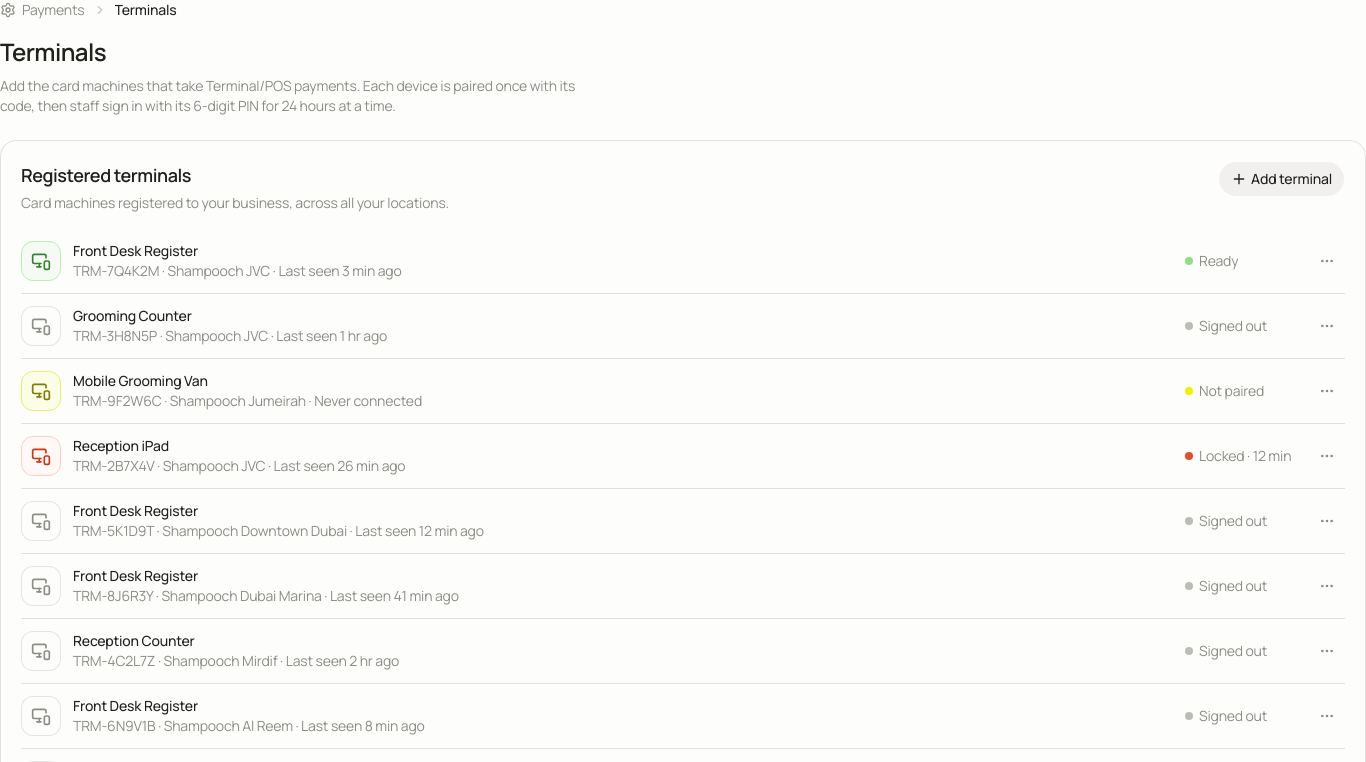
Scenario: card machines with no location › leave placed machines a Change location menu item, opening on where they are
The image size is (1366, 762).
Click the button named "Manage " next to "Ready" at (1327, 261), box top-left (1309, 243), bottom-right (1345, 279)
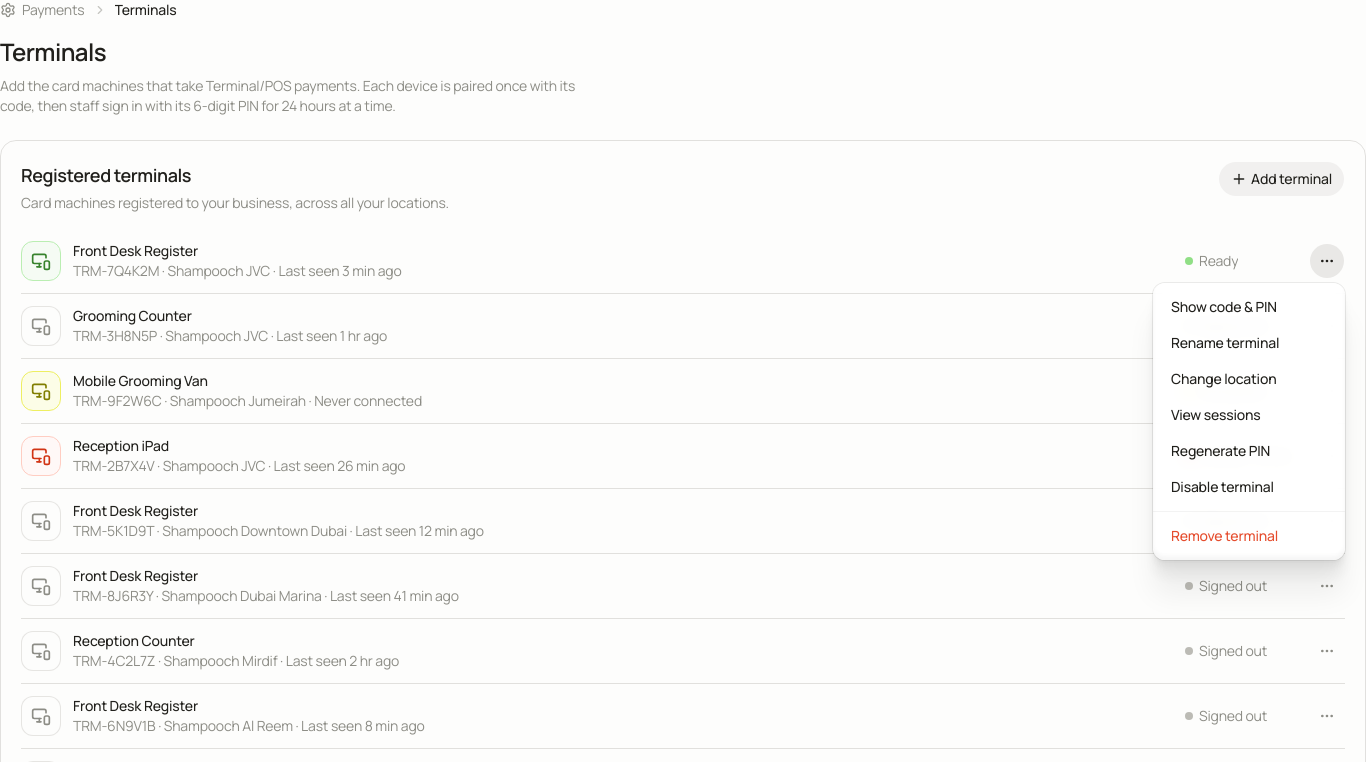
Click the menu item "Change location" at (1224, 378), box top-left (1171, 369), bottom-right (1276, 388)
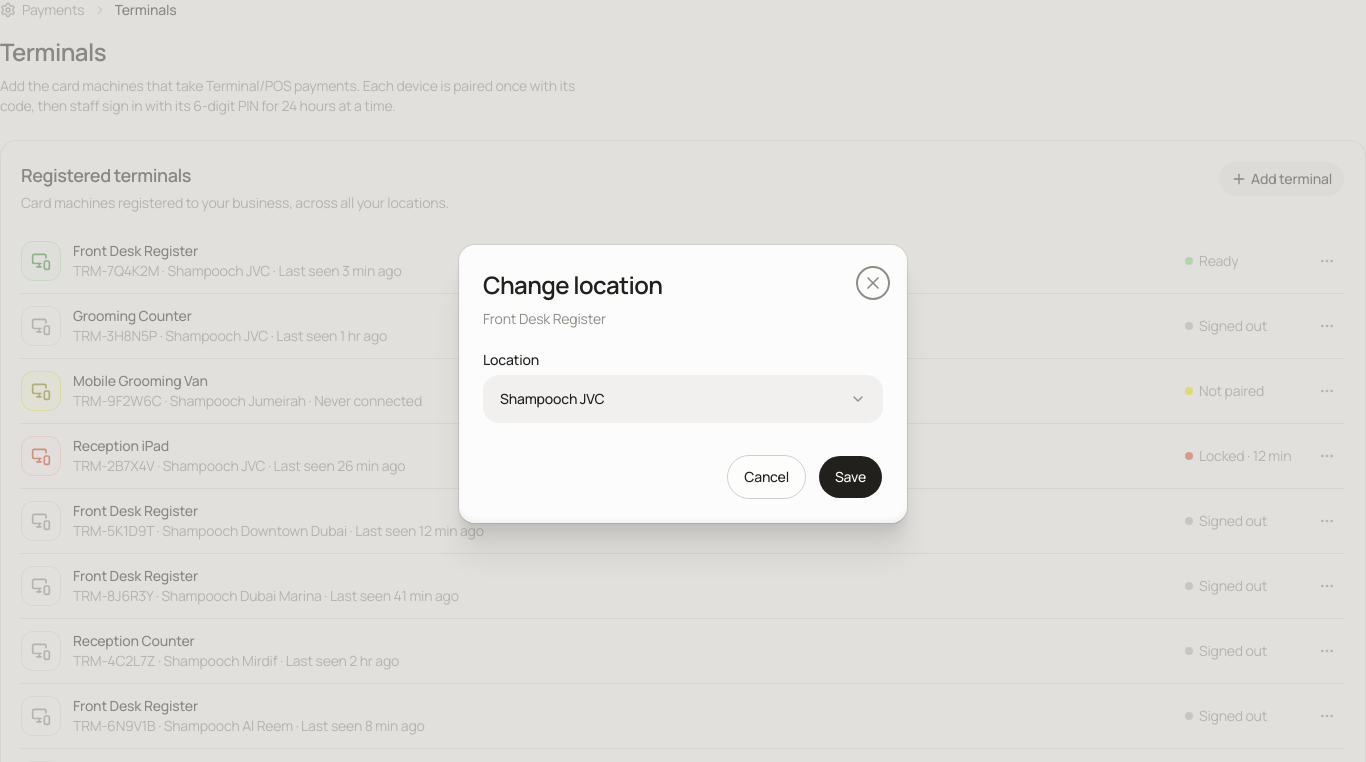
Expected: the dialog shows "Change location", top-left (483, 268), bottom-right (662, 301)
Expected: the button "Save" is enabled, top-left (818, 455), bottom-right (883, 499)
